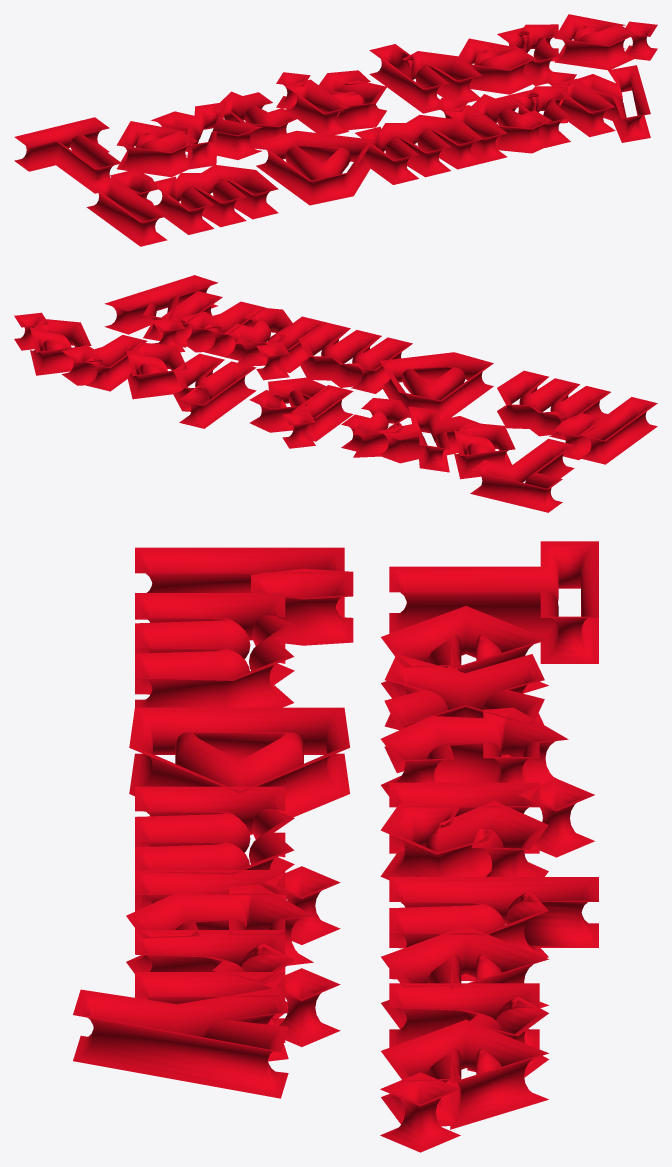
The picture shows the model from 3 angles, top to bottom: view 1: azimuth 30°, elevation 25°; view 2: azimuth 150°, elevation 25°; view 3: azimuth 270°, elevation 25°; orthographic projection. The views are drawn at different scales.
Visible parts, largest first — view 1: Text; view 2: Text; view 3: Text.
Part boxes in pixels (bbox=[...]): Text: bbox=[14, 14, 657, 246]; Text: bbox=[14, 275, 657, 512]; Text: bbox=[73, 541, 598, 1152].
Size of the model in its own units: 5.25 by 0.2 by 2.07.
